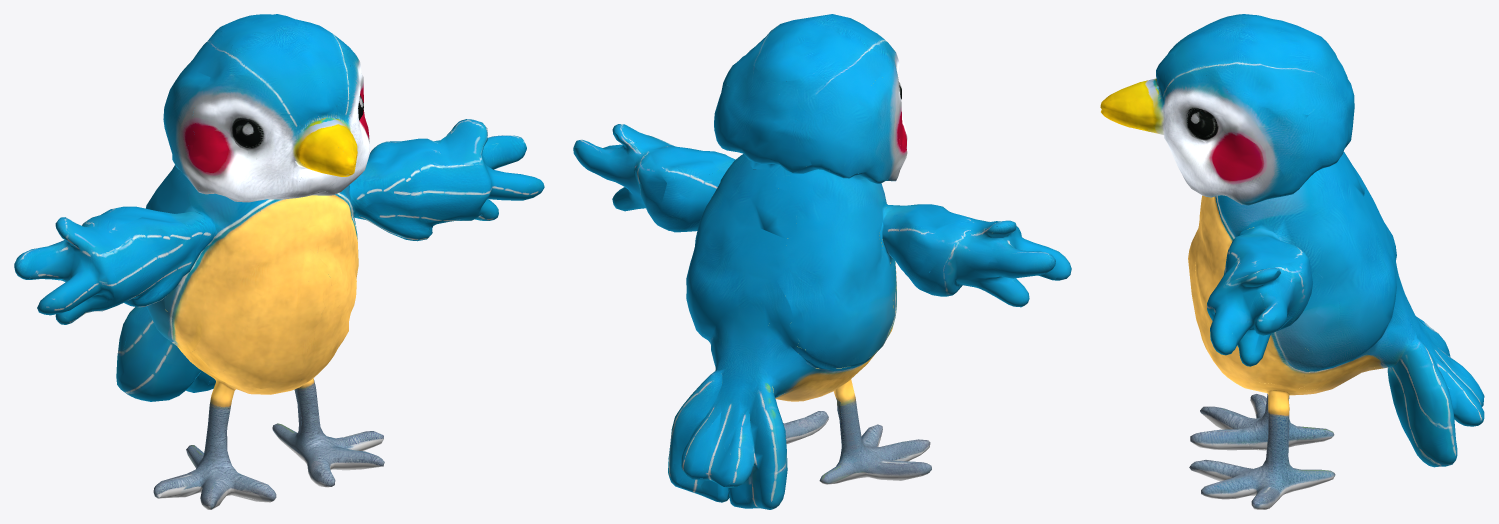
Rendered from bird.glb.
3 views of the same model, side by side, from view 1: azimuth 30°, elevation 25°; view 2: azimuth 150°, elevation 25°; view 3: azimuth 270°, elevation 25° (orthographic). The views are drawn at different scales.
Parts seen in each view (by area): view 1: Mesh_0; view 2: Mesh_0; view 3: Mesh_0.
Boxes of the visible parts, bbox=[...] form: Mesh_0: bbox=[14, 14, 544, 509]; Mesh_0: bbox=[573, 14, 1071, 509]; Mesh_0: bbox=[1100, 14, 1484, 509].
Size of the model in its own units: 1.91 by 1.64 by 1.27.
1 material, 1 textured.
